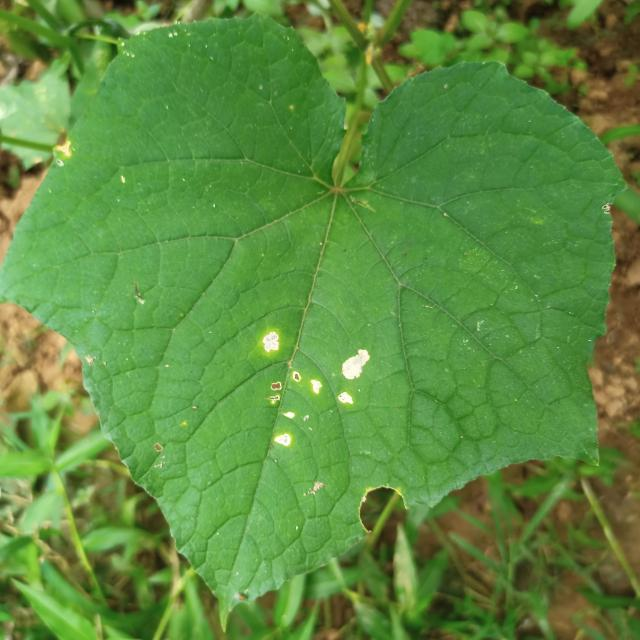disease_cucumber: (261, 331, 372, 448)
